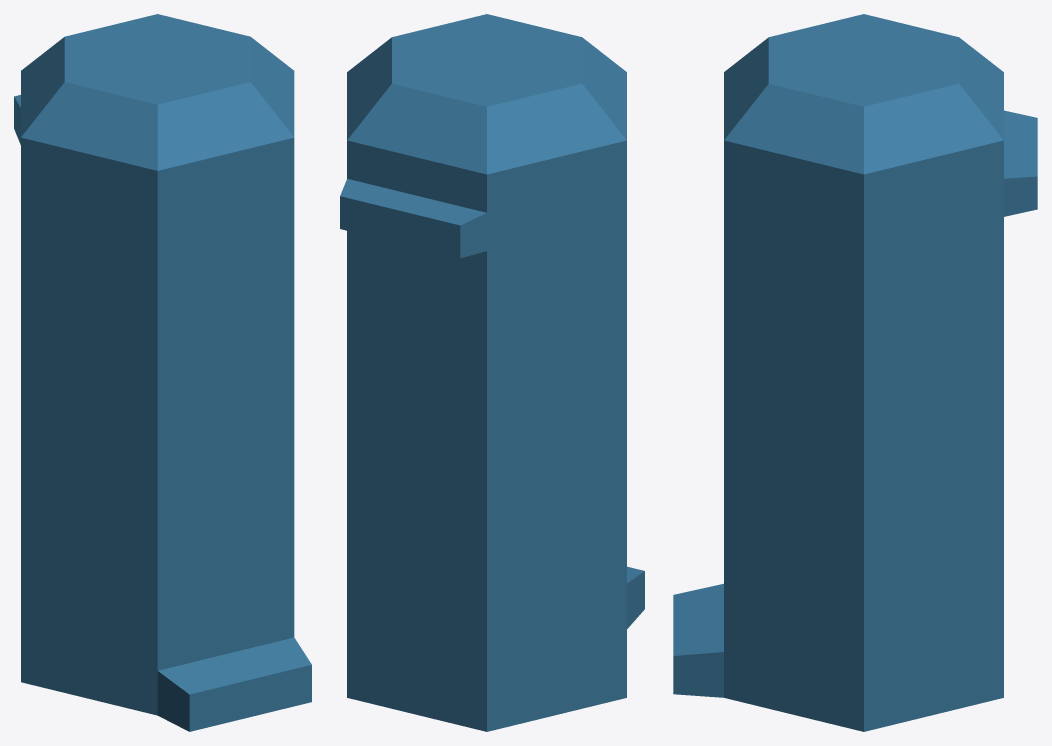
File: recycling-bin.glb
The picture shows the model from 3 angles, left to right: view 1: azimuth 30°, elevation 25°; view 2: azimuth 150°, elevation 25°; view 3: azimuth 270°, elevation 25°; orthographic projection. The views are drawn at different scales.
Visible parts, largest first — view 1: trashcan(Clone); view 2: trashcan(Clone); view 3: trashcan(Clone).
Part boxes in pixels (x1,y1,x2,y2): trashcan(Clone): (14, 14, 311, 731); trashcan(Clone): (340, 14, 644, 731); trashcan(Clone): (673, 14, 1037, 731).
Size of the model in its own units: 0.4854 by 1 by 0.5472.
